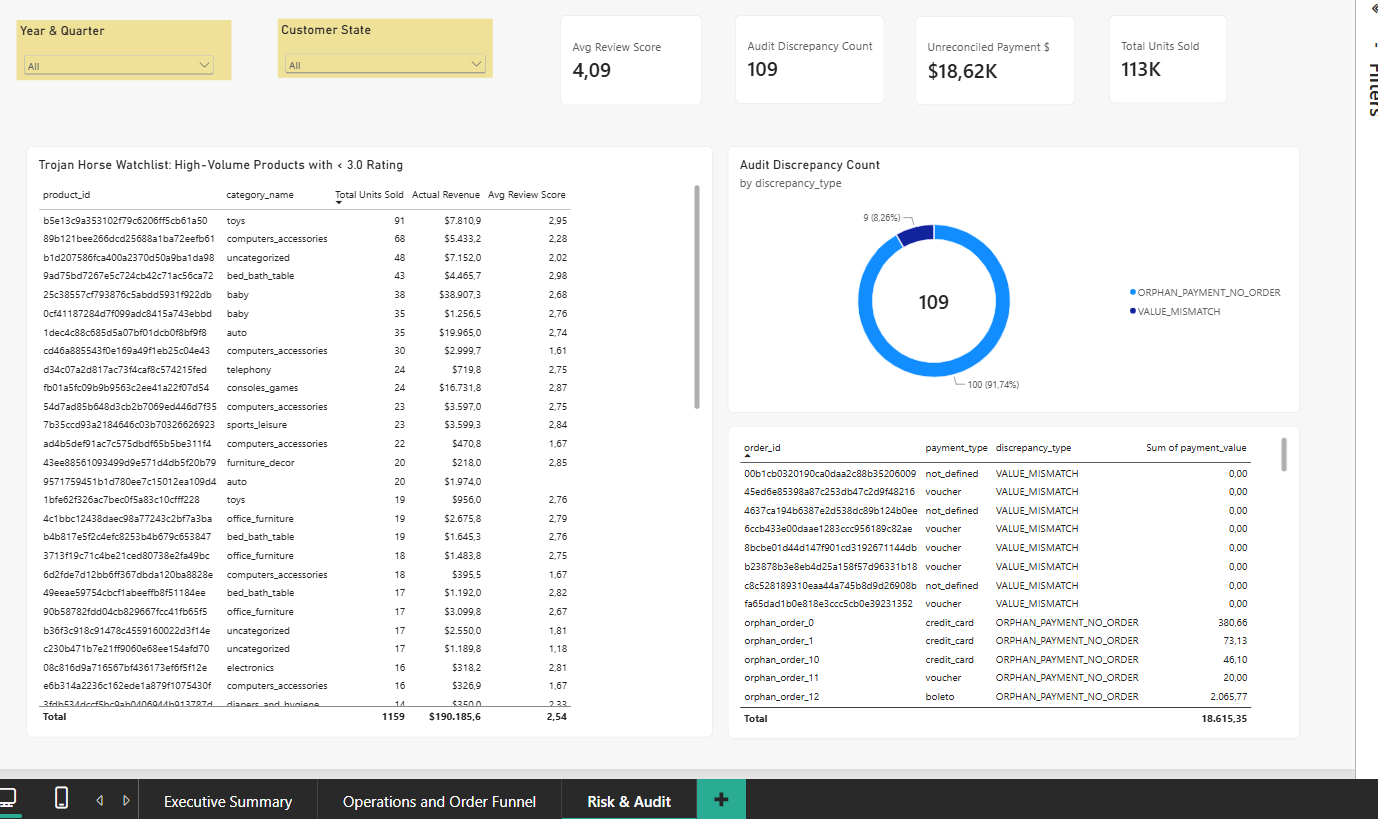

The dashboard page shown, as its layout file describes it:
{"tool":"powerbi","page":{"name":"Risk & Audit","canvas":[1920,1080],"ordinal":2},"visuals":[{"type":"cardVisual","fields":{"Data":["_Measures.Avg Review Score"]},"box":[810.4,27.6,198,126],"z":0},{"type":"cardVisual","fields":{"Data":["_Measures.Audit Discrepancy Count"]},"box":[1054.4,27.6,208,124],"z":1000},{"type":"cardVisual","fields":{"Data":["_Measures.Unreconciled Payment $"]},"box":[1306.4,29.6,223.8,124.4],"z":2000},{"type":"cardVisual","fields":{"Data":["_Measures.Total Units Sold"]},"box":[1576.7,27.9,165.7,123.8],"z":3000},{"type":"slicer","title":"Year & Quarter","fields":{"Values":["olist_analytics_warehouse dim_date.date_key.Variation.Tarih Hiyerarşisi.Yıl","olist_analytics_warehouse dim_date.date_key.Variation.Tarih Hiyerarşisi.Çeyrek"]},"box":[53,34.2,300,84],"z":4000},{"type":"slicer","title":"Customer State","fields":{"Values":["olist_analytics_warehouse dim_customers.customer_state"]},"box":[417.7,33.8,300,82],"z":5000},{"type":"tableEx","title":"Trojan Horse Watchlist: High-Volume Products with < 3.0 Rating","fields":{"Values":["olist_analytics_warehouse dim_products.product_id","olist_analytics_warehouse dim_products.category_name","_Measures.Total Units Sold","_Measures.Actual Revenue","_Measures.Avg Review Score"]},"box":[66.7,211.6,957.6,825],"z":6000},{"type":"donutChart","fields":{"Category":["olist_analytics_warehouse audit_payment_discrepancies.discrepancy_type"],"Y":["_Measures.Audit Discrepancy Count"]},"box":[1044.4,211.6,798,372],"z":7000},{"type":"tableEx","fields":{"Values":["olist_analytics_warehouse audit_payment_discrepancies.order_id","olist_analytics_warehouse audit_payment_discrepancies.payment_type","olist_analytics_warehouse audit_payment_discrepancies.discrepancy_type","Sum(olist_analytics_warehouse audit_payment_discrepancies.payment_value)"]},"box":[1044.4,601.6,798,436],"z":7001}]}

Visuals, with their boxes on the page's 1920x1080 design canvas (x1, y1, x2, y2). These are canvas units, not pixel positions in the 1378x819 screenshot, which may show the page scaled, cropped or inside an application window:
cardVisual - _Measures.Avg Review Score: x1=810, y1=28, x2=1008, y2=154
cardVisual - _Measures.Audit Discrepancy Count: x1=1054, y1=28, x2=1262, y2=152
cardVisual - _Measures.Unreconciled Payment $: x1=1306, y1=30, x2=1530, y2=154
cardVisual - _Measures.Total Units Sold: x1=1577, y1=28, x2=1742, y2=152
"Year & Quarter" slicer: x1=53, y1=34, x2=353, y2=118
"Customer State" slicer: x1=418, y1=34, x2=718, y2=116
"Trojan Horse Watchlist: High-Volume Products with < 3.0 Rating" tableEx: x1=67, y1=212, x2=1024, y2=1037
donutChart - olist_analytics_warehouse audit_payment_discrepancies.discrepancy_type x _Measures.Audit Discrepancy Count: x1=1044, y1=212, x2=1842, y2=584
tableEx - olist_analytics_warehouse audit_payment_discrepancies.order_id x olist_analytics_warehouse audit_payment_discrepancies.payment_type: x1=1044, y1=602, x2=1842, y2=1038
